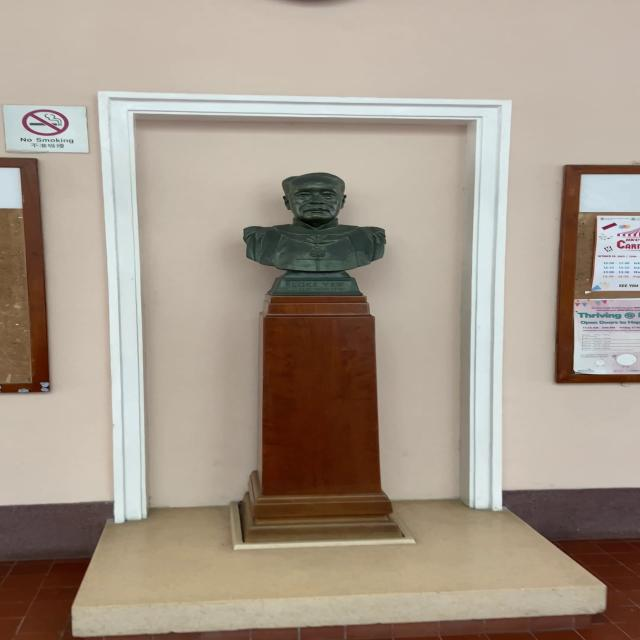statues: (237, 167, 393, 303)
